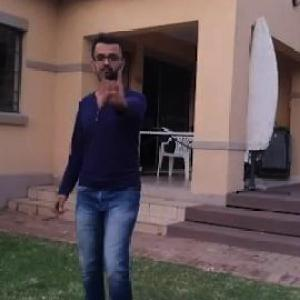takeoff-hand: (94, 62, 134, 112)
